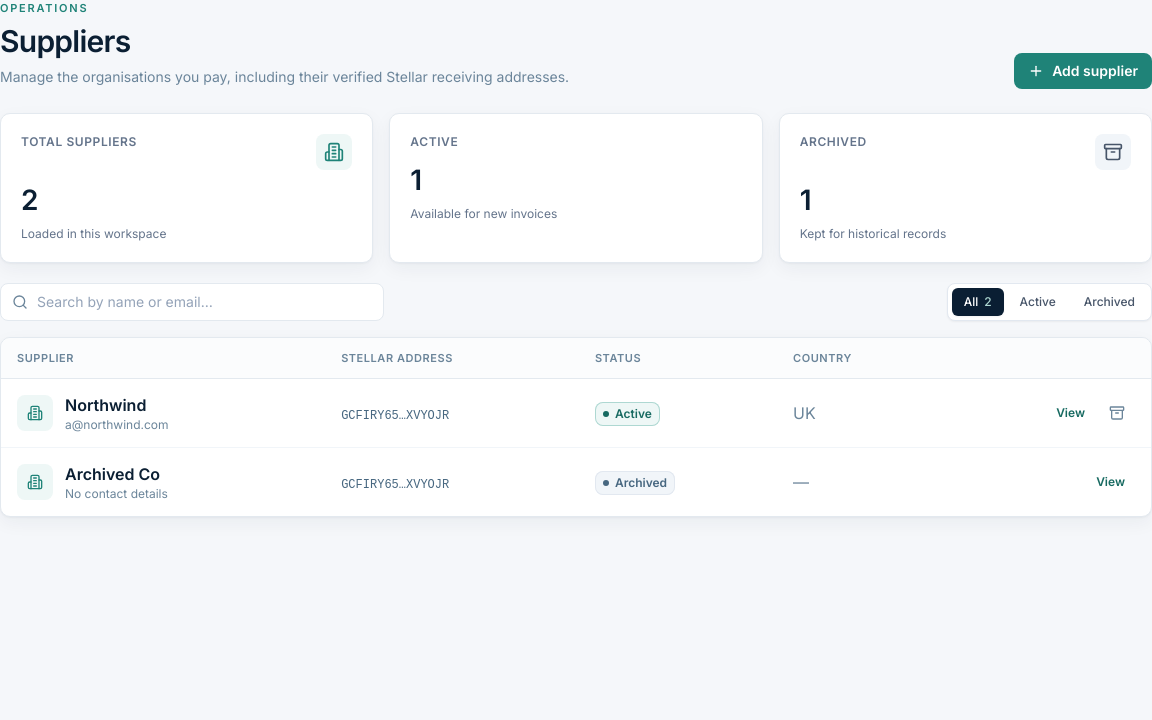
SuppliersPage › renders rows, filters and archives a supplier
Expected: the text "Northwind" is shown, [65,395,146,415]
What coordinates should you click on to do the following:
click the button "Archived"
I would click on:
 (1109, 302)
Its box is [1072,288,1147,316].
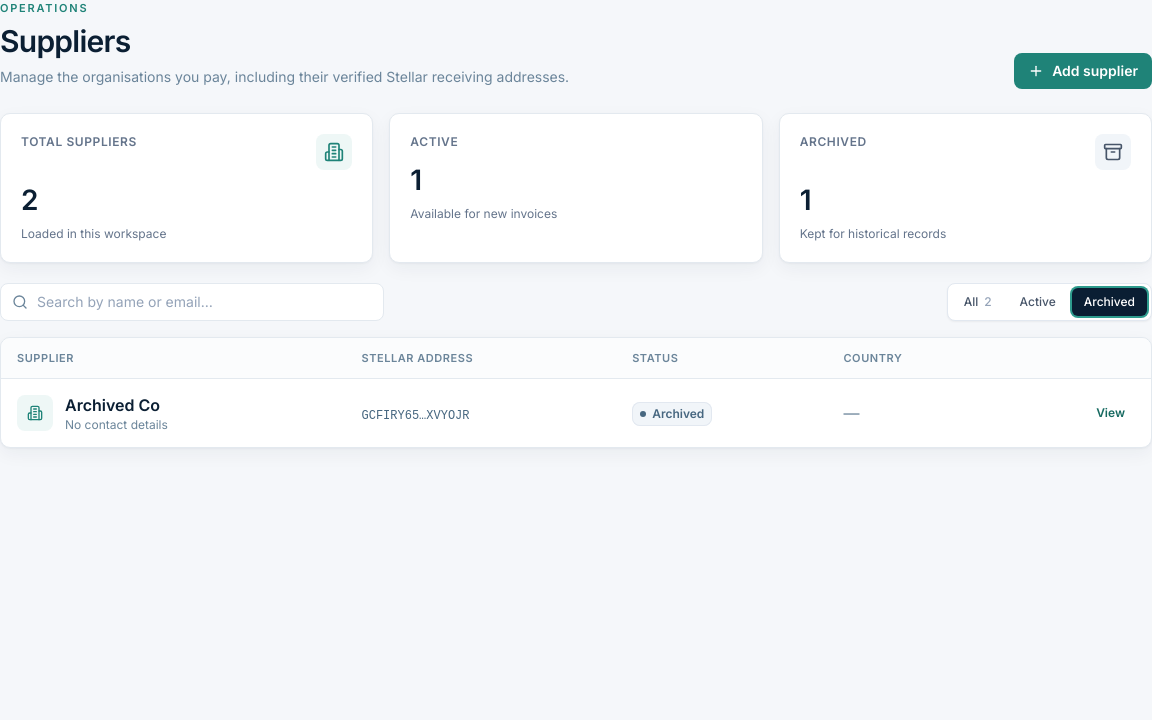
Expected: the text "Archived Co" is shown, [65,393,168,417]
Expected: the link "Northwind" is gone
What coordinates should you click on to do the following:
click the button "All2"
I would click on:
 (978, 302)
Its box is [952,288,1004,316].
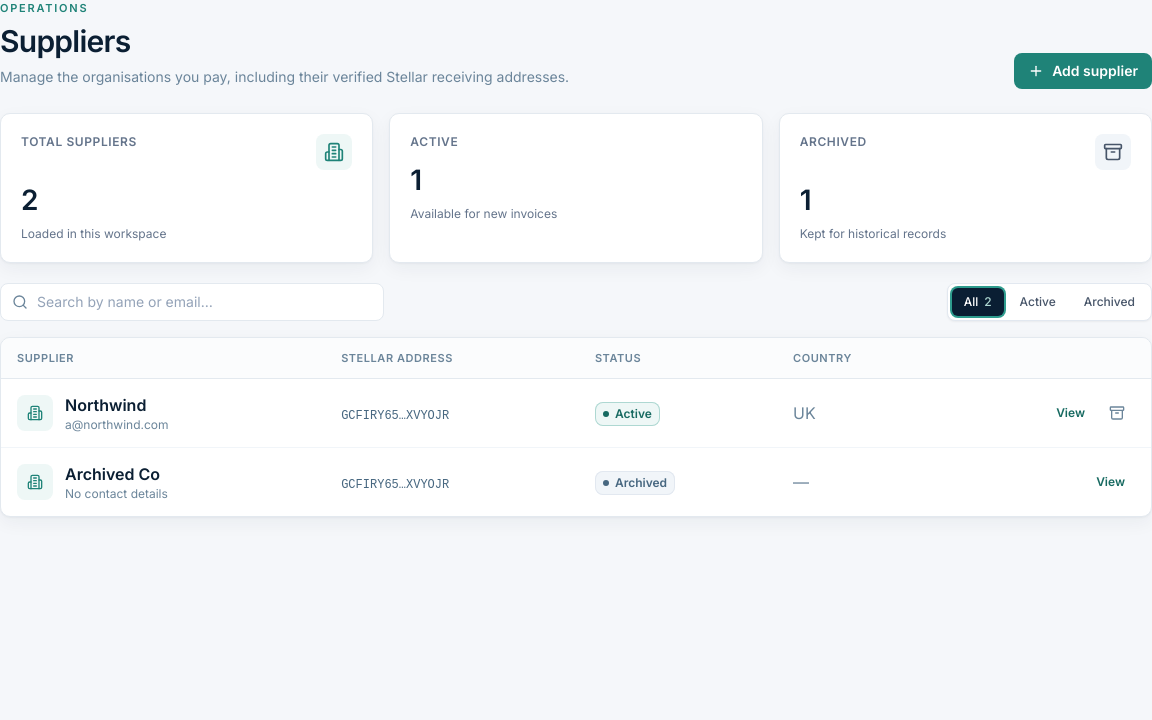
What coordinates should you click on to do the following:
click the button named "Archive Northwind"
I would click on:
 (1117, 413)
Its box is [1099,395,1135,431].
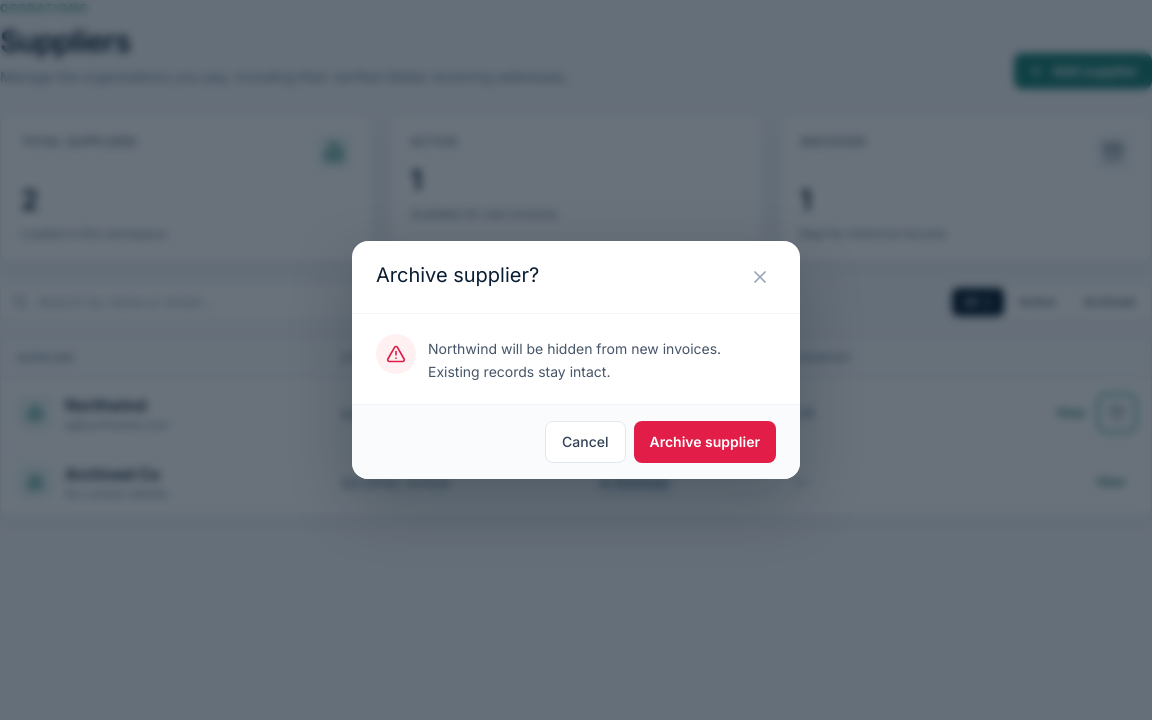
Expected: the heading "Archive supplier?" is shown, [376,261,539,289]
What coordinates should you click on to do the following:
click the button "Archive supplier"
I would click on:
 (705, 442)
Its box is [634,421,776,463].
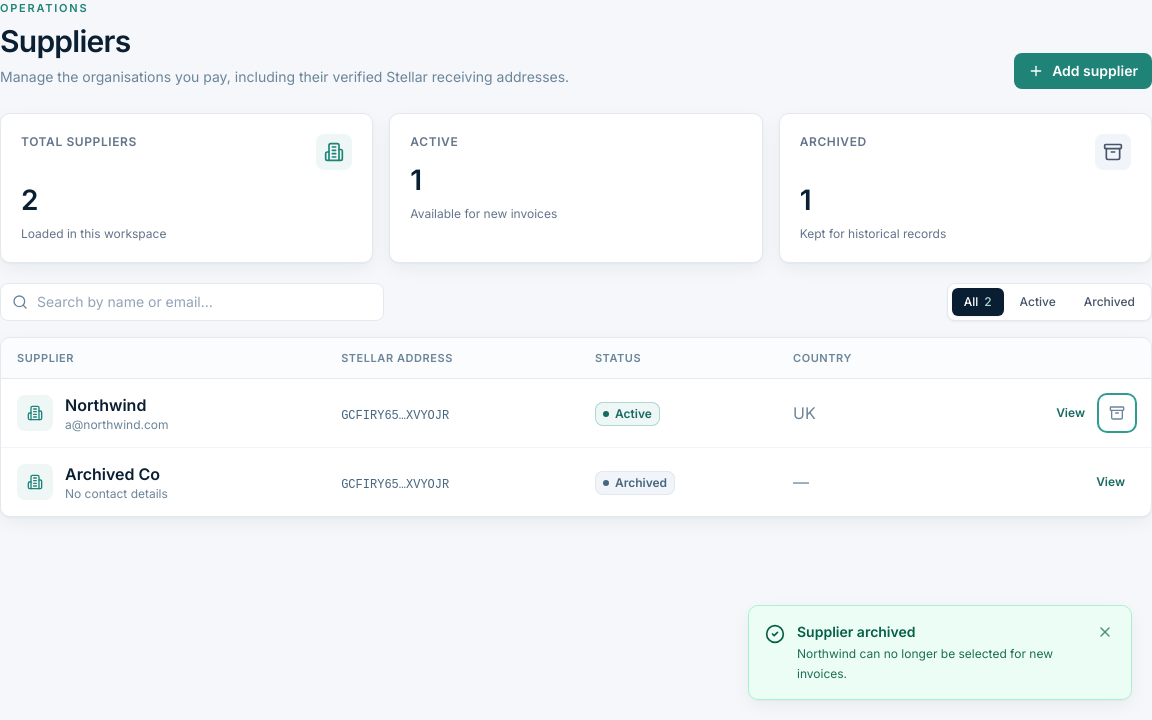
Expected: the text "Supplier archived" is shown, [797,623,916,640]
